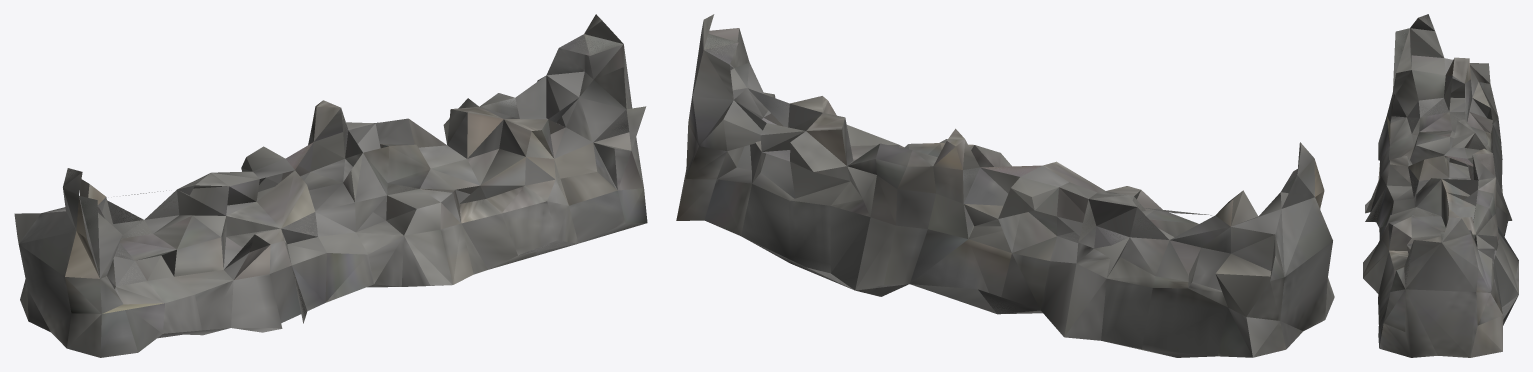
The model's file is imperial_city_wall_straight_ruined_lod2.glb.
3 views of the same model, side by side, from view 1: azimuth 30°, elevation 25°; view 2: azimuth 150°, elevation 25°; view 3: azimuth 270°, elevation 25° (orthographic). The views are drawn at different scales.
Parts seen in each view (by area): view 1: mesh_node; view 2: mesh_node; view 3: mesh_node.
Part boxes in pixels (x1=…): mesh_node: x1=14, y1=14, x2=647, y2=357; mesh_node: x1=676, y1=14, x2=1334, y2=357; mesh_node: x1=1363, y1=14, x2=1518, y2=357.
Bounding box in the file's own units: 11.89 × 3.66 × 3.57.
1 material, 1 textured.
